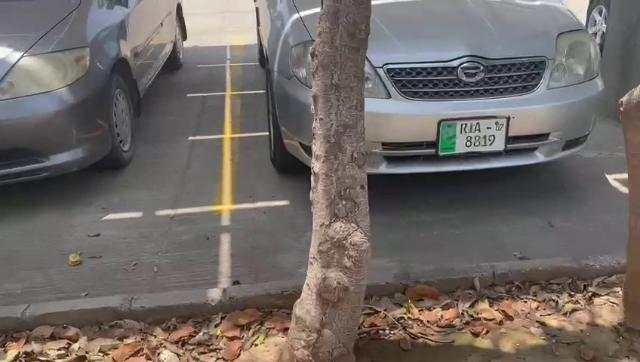plate: (436, 116, 510, 157)
